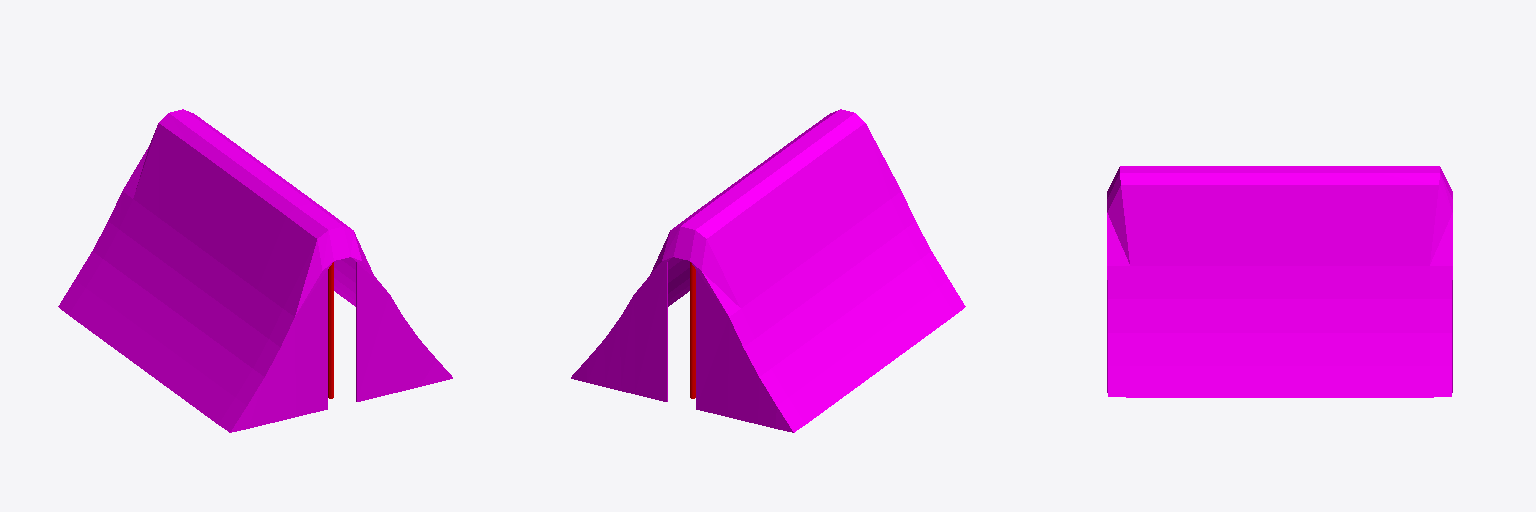
Rendered from tent-3.obj.
3 views of the same model, side by side, from view 1: azimuth 30°, elevation 25°; view 2: azimuth 150°, elevation 25°; view 3: azimuth 270°, elevation 25° (orthographic).
Parts seen in each view (by area): view 1: polySurface5; view 2: polySurface5; view 3: polySurface5.
Part boxes in pixels (x1,y1,x2,y2): polySurface5: (58, 109, 452, 432); polySurface5: (571, 109, 965, 432); polySurface5: (1107, 166, 1452, 397).
Size of the model in its own units: 6.94 by 5.1 by 9.23.